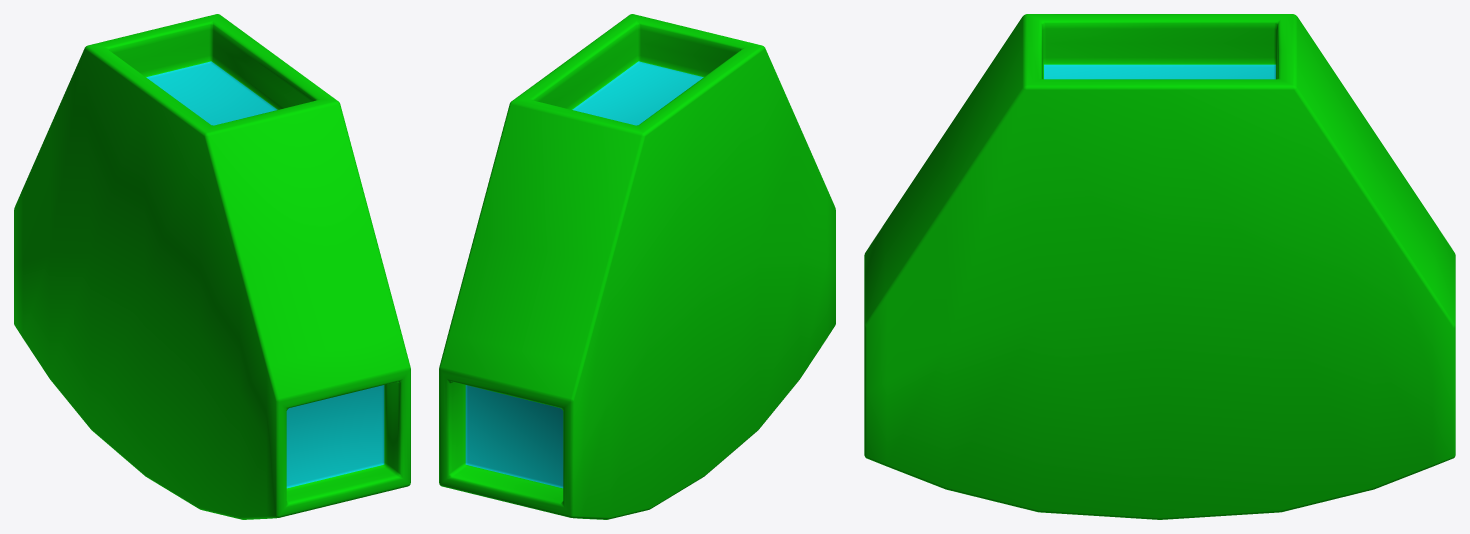
The model's file is Hand_Dryer.fbx.
3 views of the same model, side by side, from view 1: azimuth 30°, elevation 25°; view 2: azimuth 150°, elevation 25°; view 3: azimuth 270°, elevation 25° (orthographic). The views are drawn at different scales.
Parts seen in each view (by area): view 1: Hand_Dryer; view 2: Hand_Dryer; view 3: Hand_Dryer.
Boxes of the visible parts, x1=… form: Hand_Dryer: x1=14, y1=14, x2=410, y2=519; Hand_Dryer: x1=439, y1=14, x2=835, y2=519; Hand_Dryer: x1=864, y1=14, x2=1455, y2=519.
Bounding box in the file's own units: 16.05 × 43.84 × 54.05.
